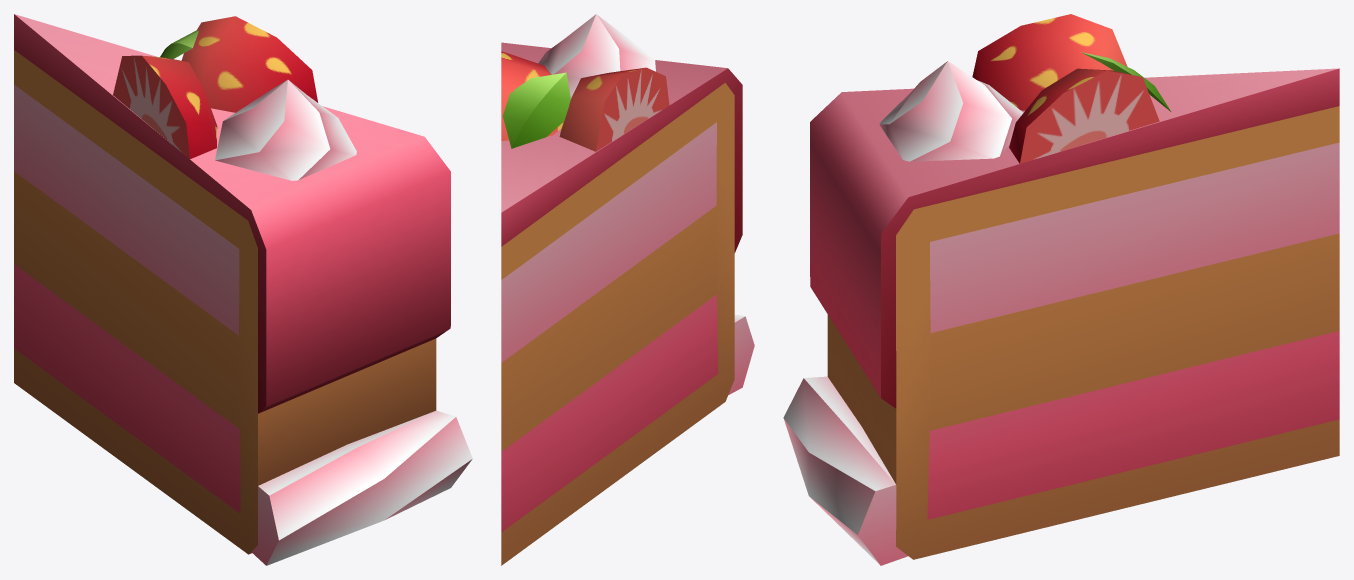
File: m_ValentinesCake01_Slice01.fbx
3 views of the same model, side by side, from view 1: azimuth 30°, elevation 25°; view 2: azimuth 150°, elevation 25°; view 3: azimuth 270°, elevation 25° (orthographic). The views are drawn at different scales.
Visible parts, largest first — view 1: m_ValentinesCake01_Slice01; view 2: m_ValentinesCake01_Slice01; view 3: m_ValentinesCake01_Slice01.
Boxes of the visible parts, <box> form: m_ValentinesCake01_Slice01: <box>14,14,472,565</box>; m_ValentinesCake01_Slice01: <box>501,14,754,565</box>; m_ValentinesCake01_Slice01: <box>783,14,1339,565</box>.
Size of the model in its own units: 7.6 by 13.37 by 15.21.
